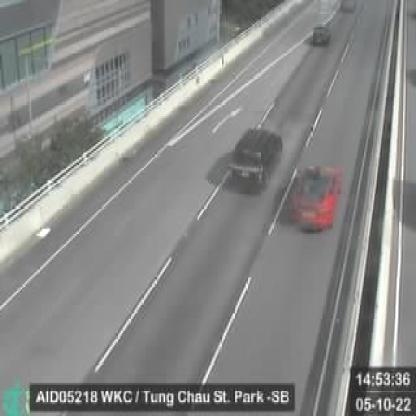Car: (288, 161, 340, 231), (230, 130, 282, 191), (310, 24, 330, 45)
